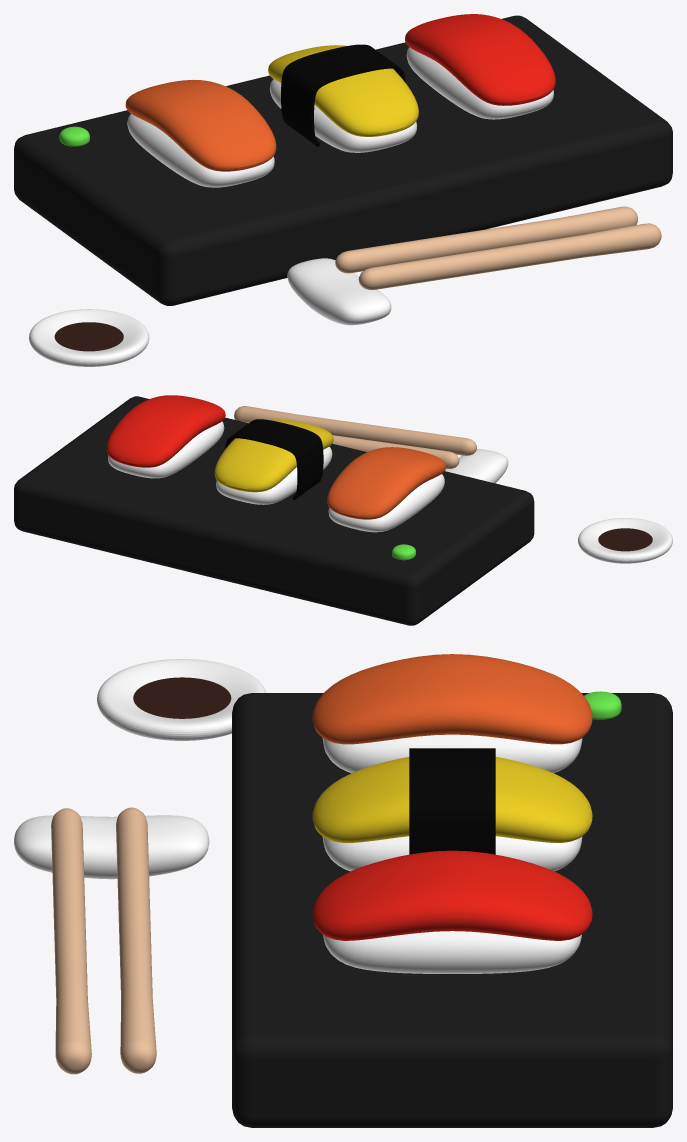
Rendered from sushi.glb.
The picture shows the model from 3 angles, top to bottom: view 1: azimuth 30°, elevation 25°; view 2: azimuth 150°, elevation 25°; view 3: azimuth 270°, elevation 25°; orthographic projection. The views are drawn at different scales.
Parts seen in each view (by area): view 1: 平面, 平面.004, 平面.006, 円.001, 円, 平面.002, 平面.007, 平面.010, 円.002, 平面.003, 平面.005, 平面.001 (+2 smaller); view 2: 平面, 平面.006, 平面.004, 平面.002, 円.001, 平面.007, 円.002, 平面.003, 平面.005, 平面.001, 平面.010, 円 (+1 smaller); view 3: 平面, 平面.004, 平面.006, 平面.002, 平面.007, 平面.005, 円.001, 円, 円.002, 平面.010, 平面.003, 平面.001 (+2 smaller).
Part boxes in pixels (<box>): 平面: <box>14,15,672,305</box>; 平面.004: <box>125,79,276,171</box>; 平面.006: <box>405,14,555,105</box>; 円.001: <box>358,223,661,289</box>; 円: <box>335,206,637,273</box>; 平面.002: <box>268,45,418,136</box>; 平面.007: <box>281,44,405,146</box>; 平面.010: <box>287,258,391,325</box>; 円.002: <box>29,309,149,366</box>; 平面.003: <box>127,114,274,187</box>; 平面.005: <box>406,47,553,119</box>; 平面.001: <box>269,79,417,152</box>; 平面: <box>14,396,534,625</box>; 平面.006: <box>106,395,225,467</box>; 平面.004: <box>327,447,445,519</box>; 平面.002: <box>214,419,333,492</box>; 円.001: <box>234,406,476,455</box>; 平面.007: <box>225,419,323,499</box>; 円.002: <box>578,518,672,563</box>; 平面.003: <box>328,474,444,532</box>; 平面.005: <box>108,421,224,478</box>; 平面.001: <box>216,446,332,504</box>; 平面.010: <box>445,449,508,483</box>; 円: <box>241,421,459,468</box>; 平面: <box>232,693,672,1127</box>; 平面.004: <box>312,654,592,744</box>; 平面.006: <box>312,850,592,940</box>; 平面.002: <box>312,757,592,842</box>; 平面.007: <box>409,748,495,854</box>; 平面.005: <box>323,931,581,973</box>; 円.001: <box>51,808,91,1074</box>; 円: <box>116,807,156,1073</box>; 円.002: <box>97,659,266,740</box>; 平面.010: <box>14,815,209,879</box>; 平面.003: <box>322,734,582,772</box>; 平面.001: <box>322,836,582,871</box>.
Bounding box in the file's own units: 4.89 × 0.9379 × 2.99.
